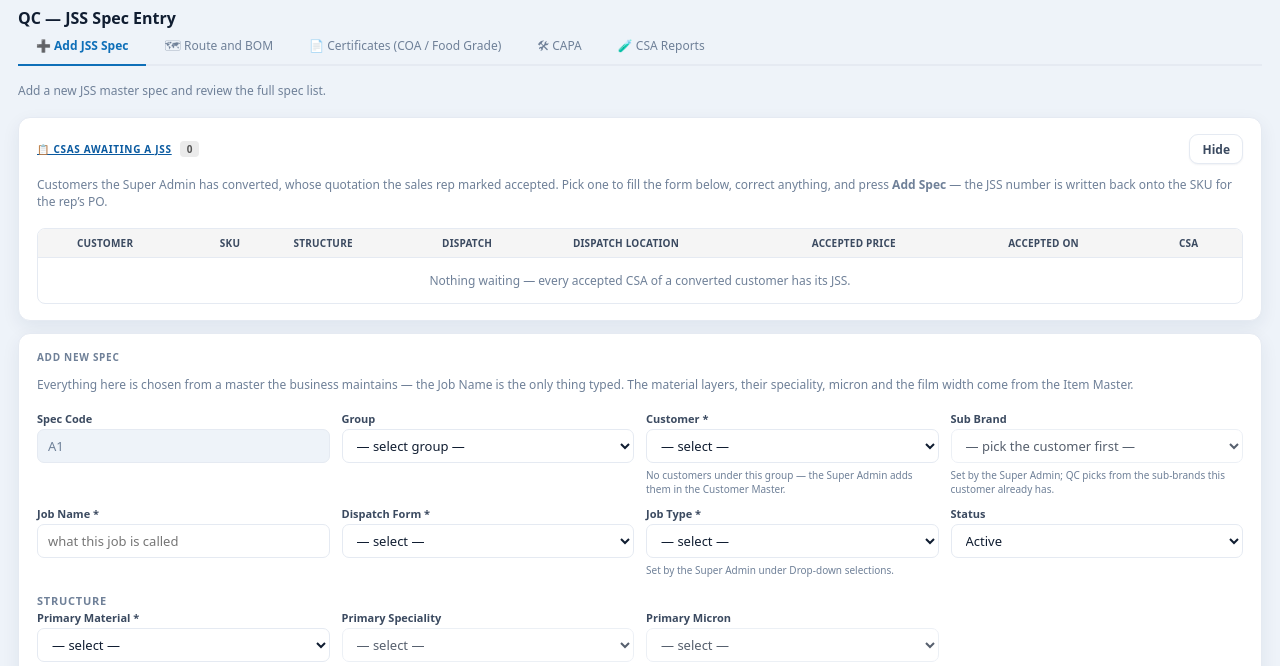
Test: CSA → JSS › “→ JSS” opens the spec entry with the CSA filled in, sheet and all
The width and height of the screenshot is (1280, 666).
Step 1. Click the text "🧪 CSA Reports" → (661, 46), box [618,37,705,54]
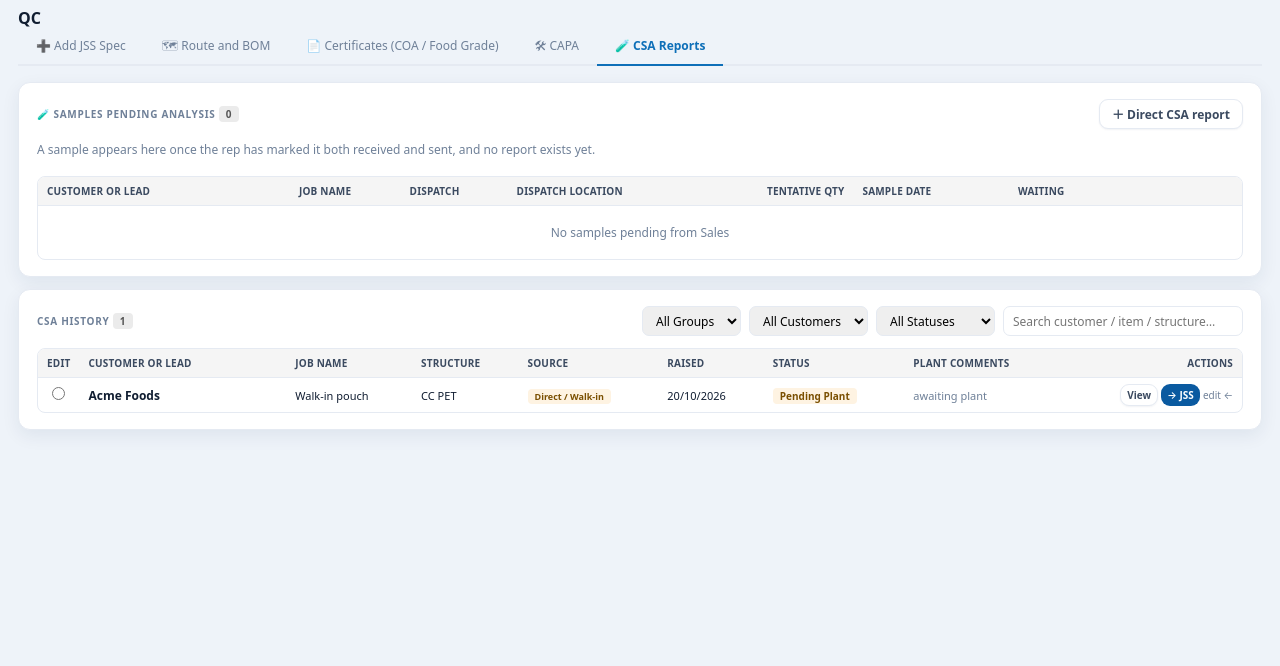
Step 2. Click the button with aria-label "Convert CSA for Walk-in pouch to JSS" → (1181, 395), box [1161,384,1200,406]
(page scrolled)
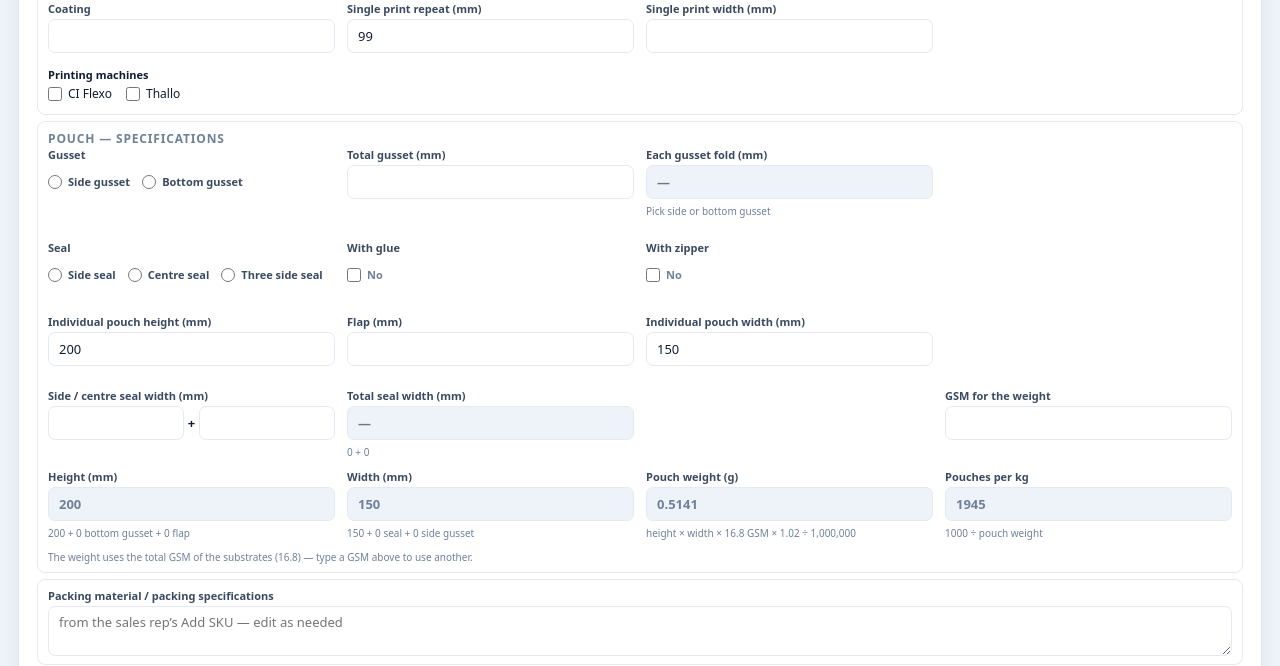
expect the number field named "Single print repeat (mm)" holds "99": met, box [347,19,634,53]
expect the number field named "Individual pouch height (mm)" holds "200": met, box [48,332,335,366]
